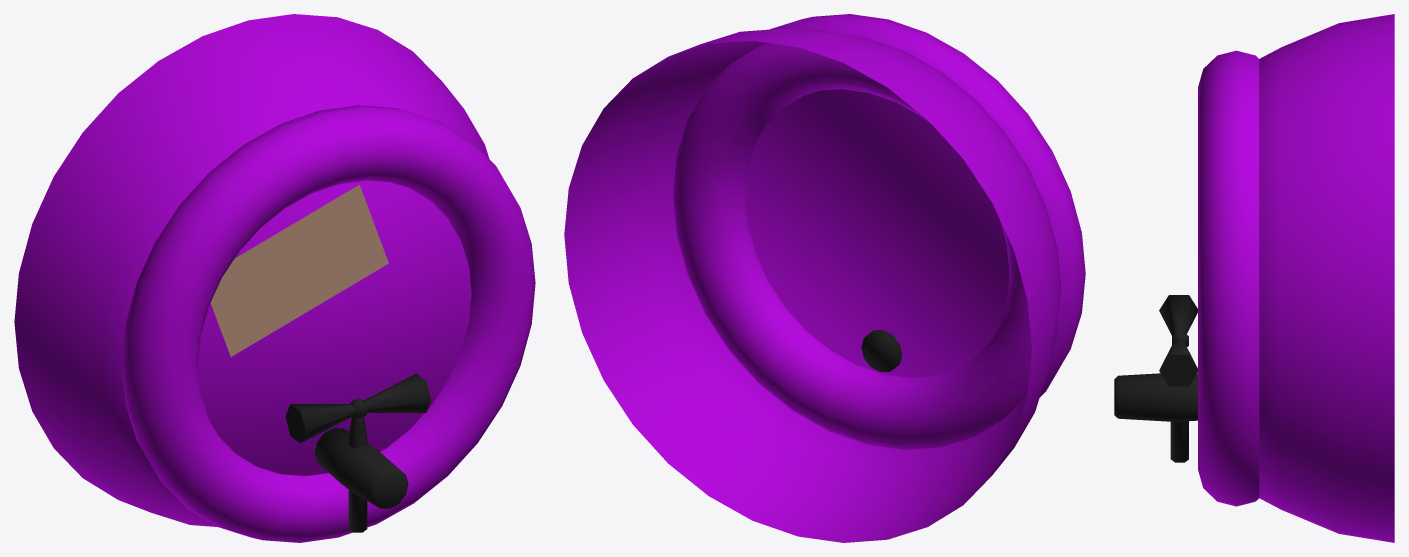
Rendered from GB_085_barrel_tap.glb.
3 views of the same model, side by side, from view 1: azimuth 30°, elevation 25°; view 2: azimuth 150°, elevation 25°; view 3: azimuth 270°, elevation 25° (orthographic).
Visible parts, largest first — view 1: BarrelTap; view 2: BarrelTap; view 3: BarrelTap.
Part boxes in pixels (x1,y1,x2,y2): BarrelTap: (14, 14, 535, 542); BarrelTap: (564, 14, 1085, 542); BarrelTap: (1114, 14, 1394, 542).
Size of the model in its own units: 1.49 by 1.49 by 0.7889.
